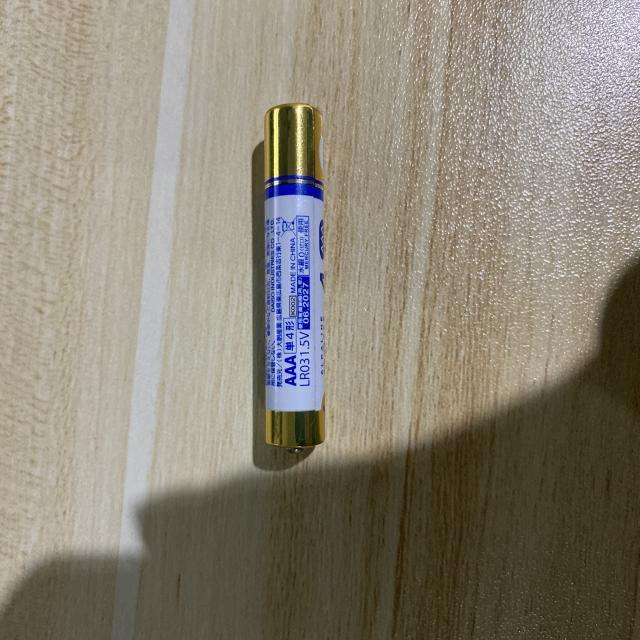AAA: (264, 104, 324, 454)
